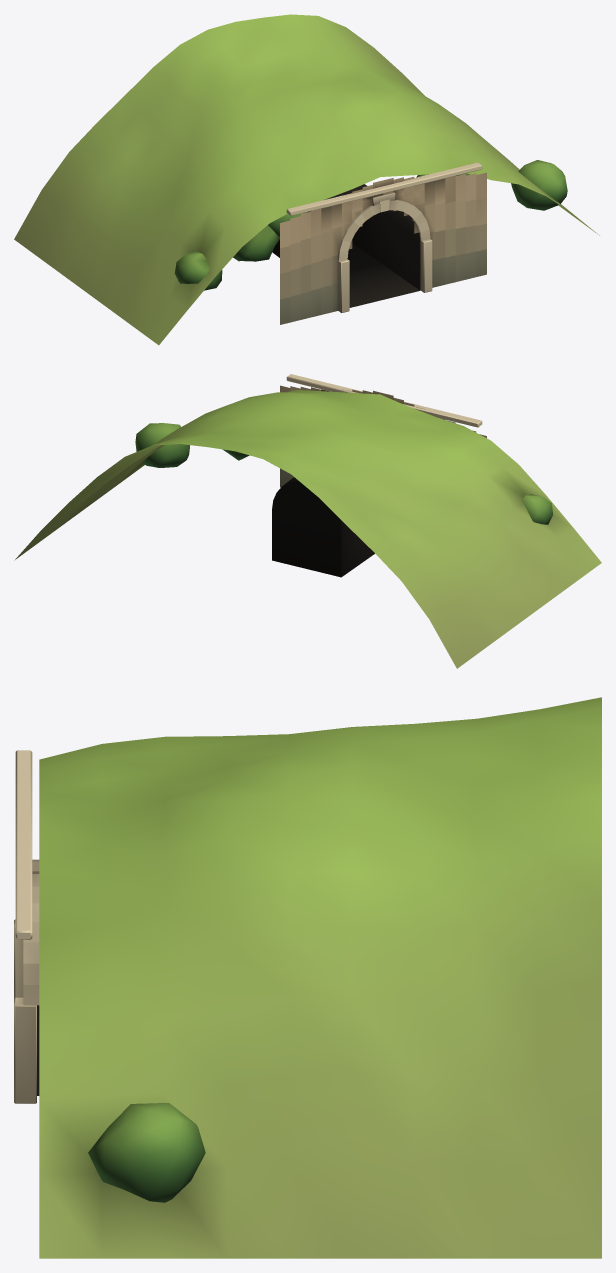
The model's file is tunnel_portal.glb.
3 renders of one model, top to bottom at view 1: azimuth 30°, elevation 25°; view 2: azimuth 150°, elevation 25°; view 3: azimuth 270°, elevation 25°, orthographic. The views are drawn at different scales.
Visible parts, largest first — view 1: tunnel_portal_mesh; view 2: tunnel_portal_mesh; view 3: tunnel_portal_mesh.
Boxes of the visible parts, box(x1,y1,x2,y2) form: tunnel_portal_mesh: box(14, 14, 599, 345); tunnel_portal_mesh: box(14, 374, 601, 668); tunnel_portal_mesh: box(14, 697, 601, 1258).
Size of the model in its own units: 30 by 10.98 by 17.77.
